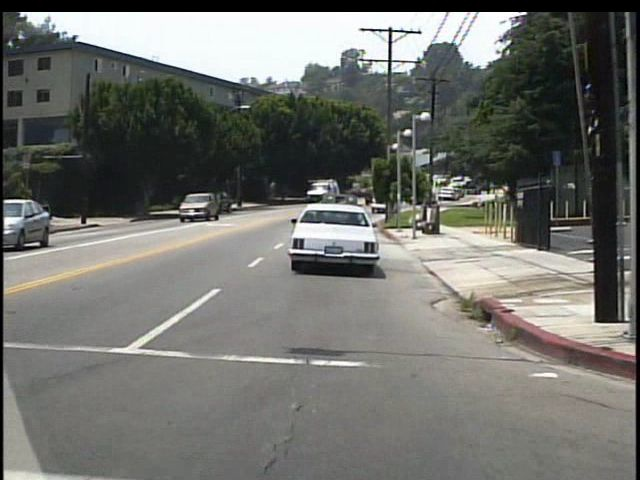person: (42, 199, 55, 228)
